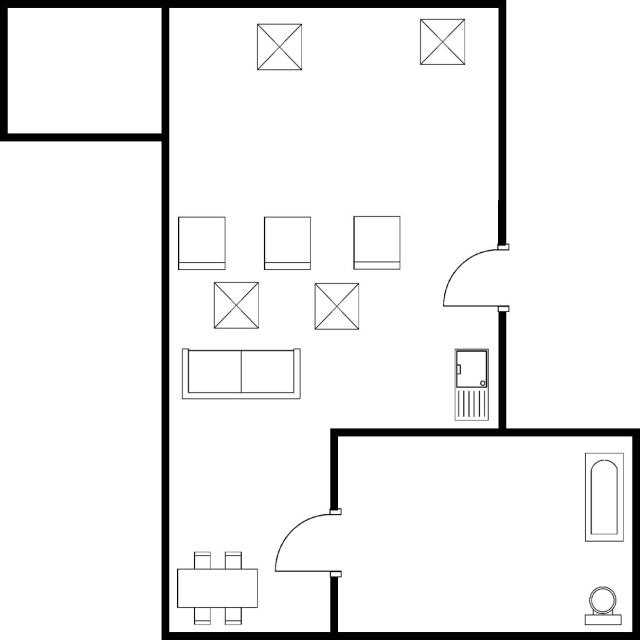coffee_table: (251, 16, 306, 76), (416, 14, 468, 70), (310, 279, 362, 334), (210, 276, 261, 332)
dining_table: (172, 546, 264, 628)
large_sink: (581, 582, 625, 629)
large_sofa: (177, 344, 304, 404)
sink: (450, 343, 492, 424)
small_sofa: (172, 212, 229, 273), (260, 212, 314, 273), (350, 212, 404, 273)
tub: (580, 447, 626, 546)
